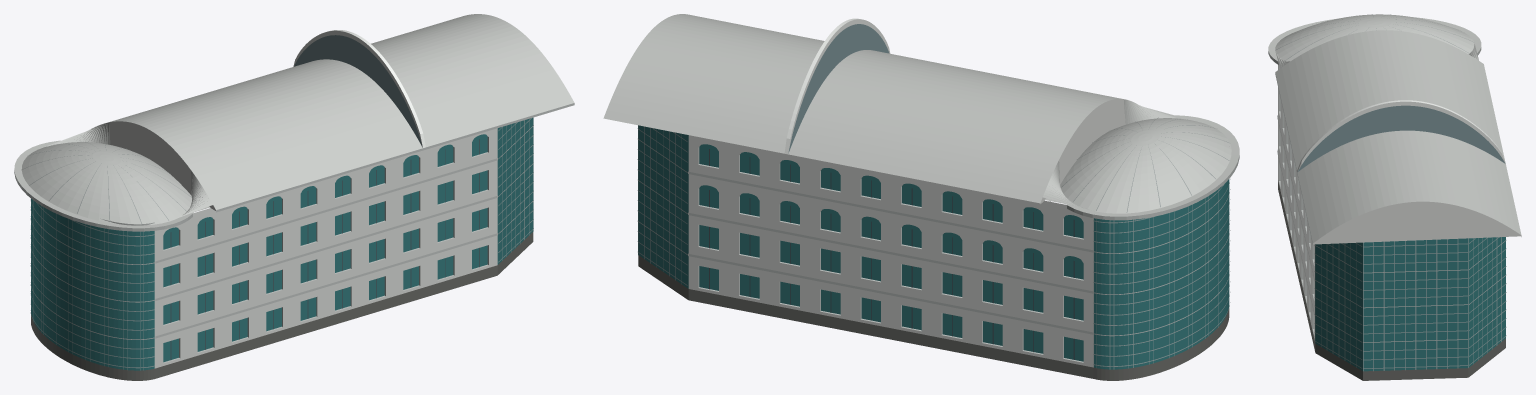
The picture shows the model from 3 angles, left to right: view 1: azimuth 30°, elevation 25°; view 2: azimuth 150°, elevation 25°; view 3: azimuth 270°, elevation 25°; orthographic projection. The views are drawn at different scales.
Visible parts, largest first — view 1: wing4__roof-metal, wing4__wall-plaster, wing4__glass, wing4__trim-concrete, wing4__base-stone, wing4__curtainwall-frame, wing4__rear-arch-inset, wing4__rear-arch-plaster, wing4__frame, wing4__roof-seam-metal; view 2: wing4__roof-metal, wing4__wall-plaster, wing4__glass, wing4__trim-concrete, wing4__base-stone, wing4__curtainwall-frame, wing4__rear-arch-inset, wing4__frame, wing4__rear-arch-plaster, wing4__roof-seam-metal; view 3: wing4__roof-metal, wing4__glass, wing4__wall-plaster, wing4__curtainwall-frame, wing4__rear-arch-inset, wing4__trim-concrete, wing4__base-stone, wing4__rear-arch-plaster.
Part boxes in pixels (box(x1,y1,x2,y2)): wing4__roof-metal: box(14, 14, 574, 228); wing4__wall-plaster: box(109, 121, 497, 368); wing4__glass: box(31, 117, 533, 370); wing4__trim-concrete: box(14, 103, 574, 363); wing4__base-stone: box(31, 232, 533, 380); wing4__curtainwall-frame: box(30, 118, 533, 370); wing4__rear-arch-inset: box(294, 35, 422, 147); wing4__rear-arch-plaster: box(293, 30, 425, 147); wing4__frame: box(170, 139, 479, 359); wing4__roof-seam-metal: box(22, 142, 191, 223); wing4__roof-metal: box(603, 14, 1239, 216); wing4__wall-plaster: box(688, 99, 1125, 367); wing4__glass: box(638, 125, 1229, 369); wing4__trim-concrete: box(637, 139, 1239, 362); wing4__base-stone: box(638, 255, 1229, 380); wing4__curtainwall-frame: box(637, 125, 1230, 369); wing4__rear-arch-inset: box(788, 24, 889, 153); wing4__frame: box(709, 149, 1074, 359); wing4__rear-arch-plaster: box(784, 18, 890, 154); wing4__roof-seam-metal: box(1061, 117, 1229, 212); wing4__roof-metal: box(1268, 14, 1521, 243); wing4__glass: box(1315, 237, 1505, 371); wing4__wall-plaster: box(1278, 65, 1521, 340); wing4__curtainwall-frame: box(1314, 237, 1506, 371); wing4__rear-arch-inset: box(1298, 105, 1505, 171); wing4__trim-concrete: box(1268, 47, 1521, 342); wing4__base-stone: box(1278, 180, 1505, 380); wing4__rear-arch-plaster: box(1297, 100, 1505, 171).
Size of the model in its own units: 50.49 by 21.8 by 23.74.
